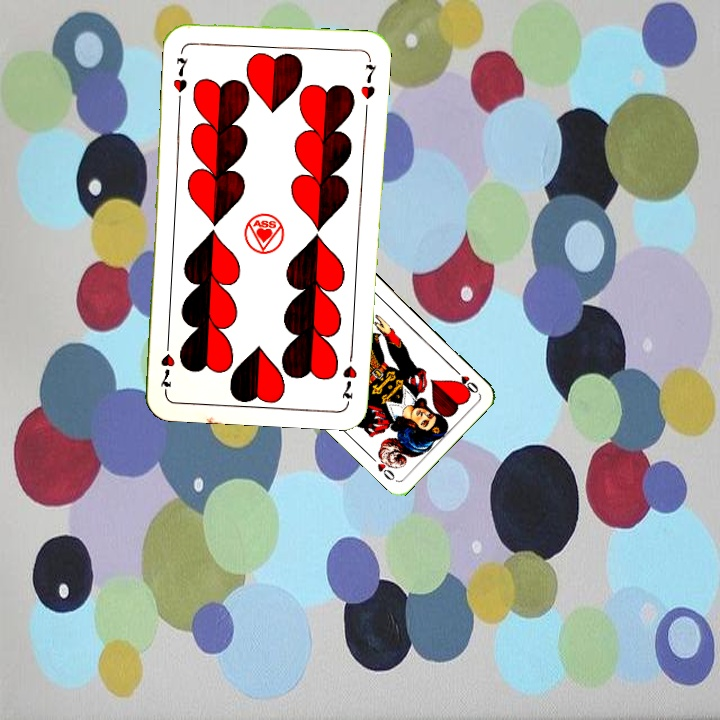H7: (338, 345, 360, 404), (169, 54, 190, 95)
HO: (449, 363, 481, 396)
